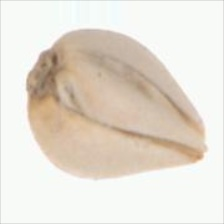L5: (61, 50, 205, 161), (24, 42, 65, 105)
L6: (25, 27, 209, 182)
